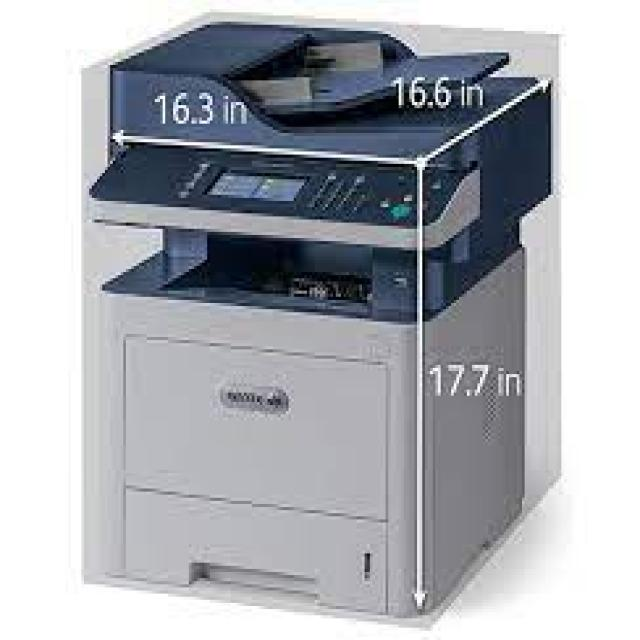printer: (82, 4, 570, 638)
